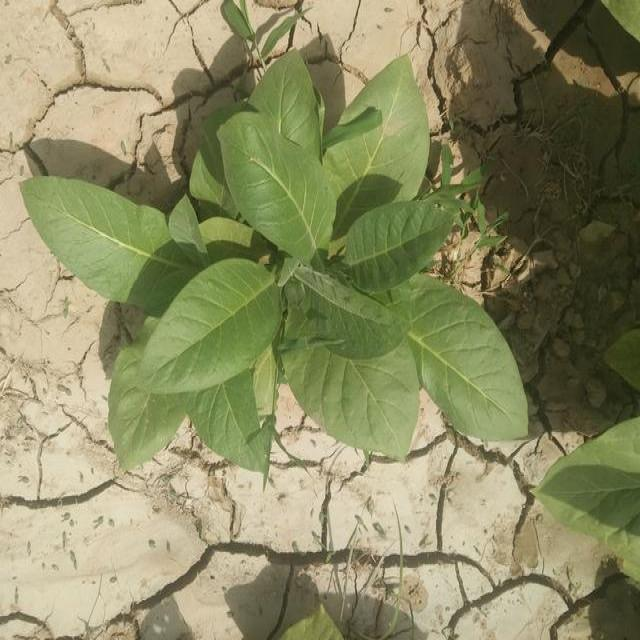crop: (51, 184, 262, 450), (238, 70, 446, 268), (287, 276, 512, 444)
